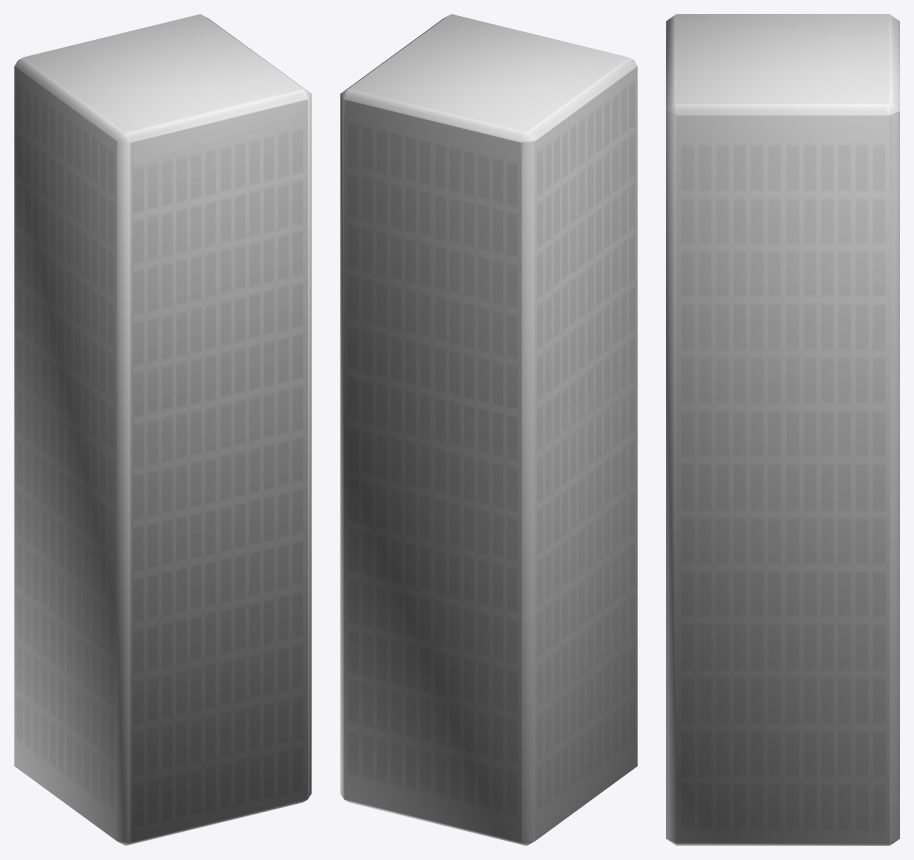
The model's file is building1.1.fbx.
The picture shows the model from 3 angles, left to right: view 1: azimuth 30°, elevation 25°; view 2: azimuth 150°, elevation 25°; view 3: azimuth 270°, elevation 25°; orthographic projection. The views are drawn at different scales.
Parts seen in each view (by area): view 1: Cube.001; view 2: Cube.001; view 3: Cube.001.
Part boxes in pixels (bbox=[...]): Cube.001: bbox=[14, 14, 311, 845]; Cube.001: bbox=[340, 14, 637, 845]; Cube.001: bbox=[666, 14, 899, 845].
Bounding box in the file's own units: 464 × 1625 × 464.
